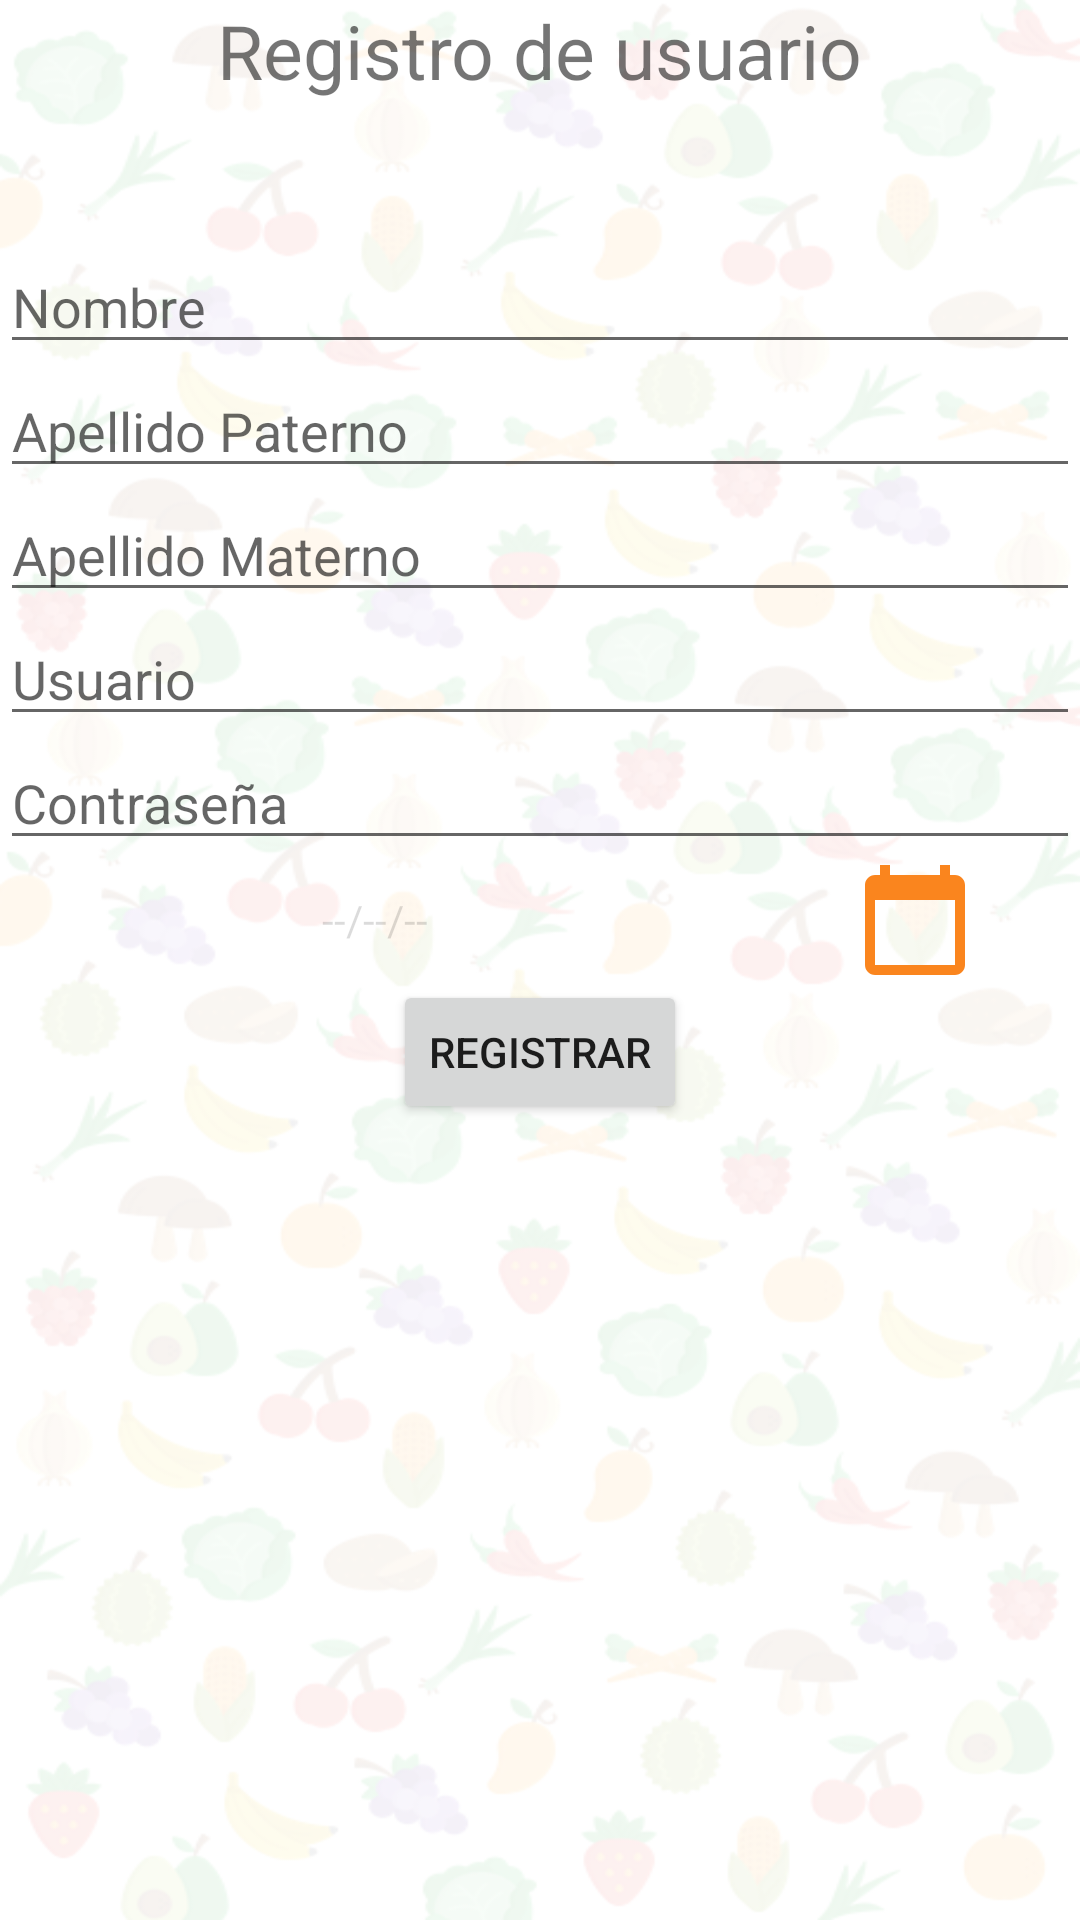

Where to tap for icons on this 1080px x 1920px app screen, as [x,y]:
calendar today: [915,920]
